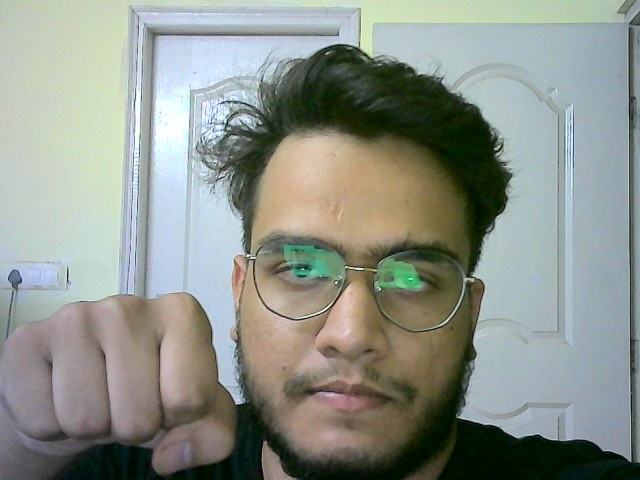Yes: (1, 277, 239, 480)
